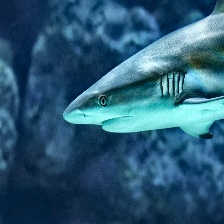shark: (63, 7, 224, 136)
